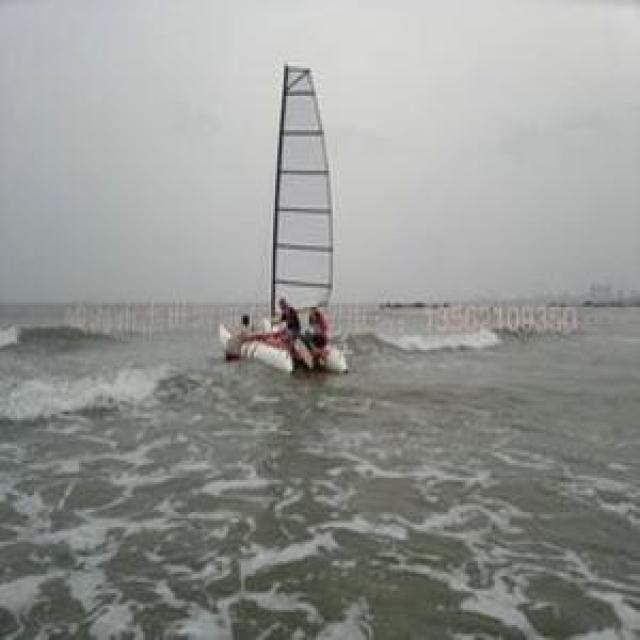sailboat: (184, 55, 344, 392)
